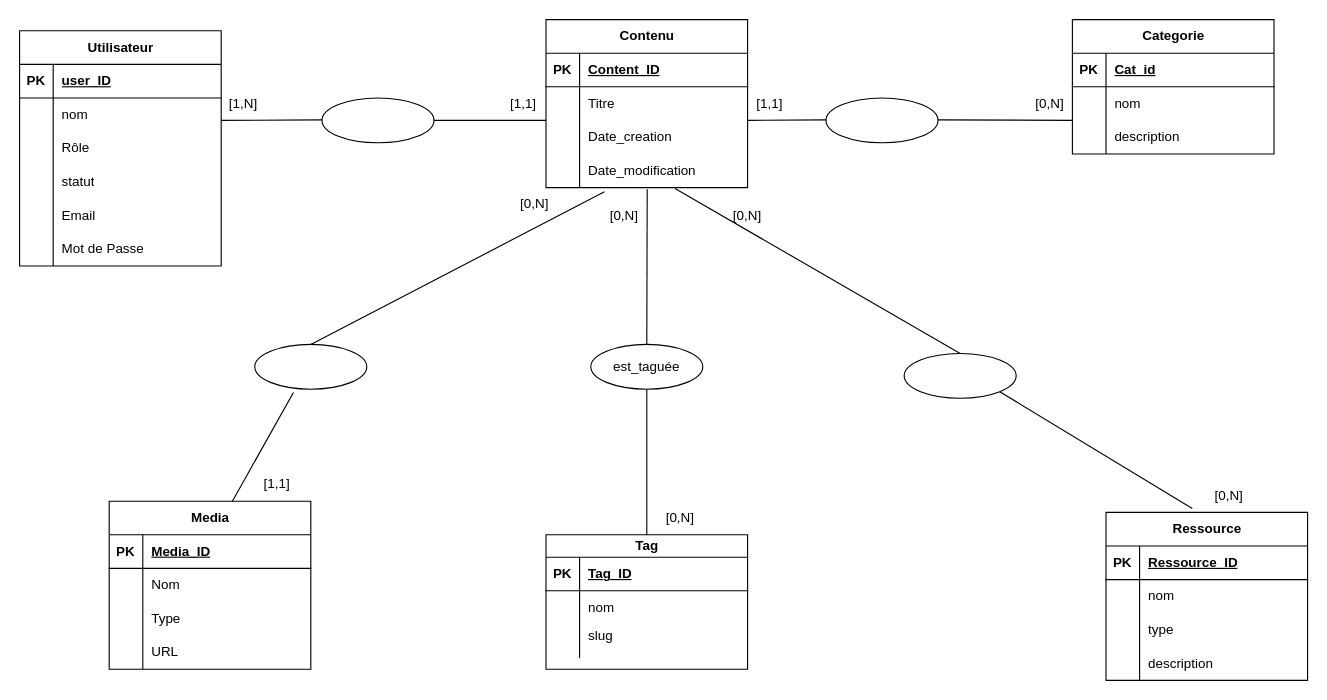
This 1327x700 diagram has some shape labels left out. Each missing label, with the centre of its shape:
Appartient: the point at 881,120
Mentionne: the point at 959,375
Possede: the point at 310,366
Publie: the point at 377,120
